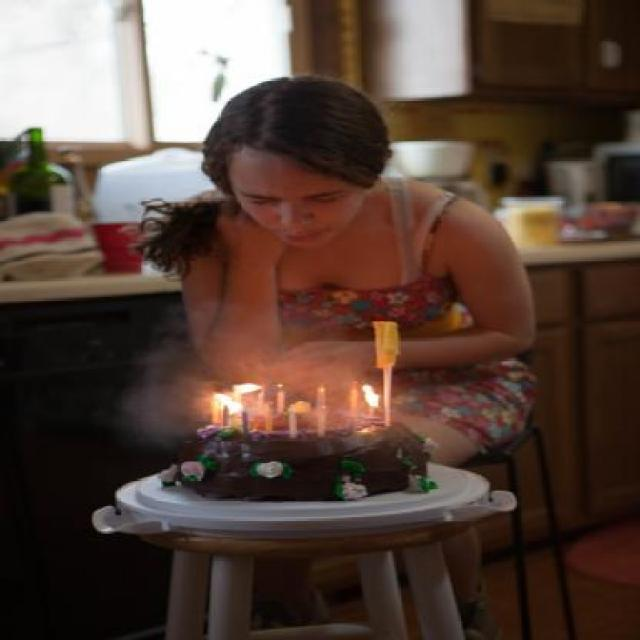Cake: (165, 412, 428, 498)
